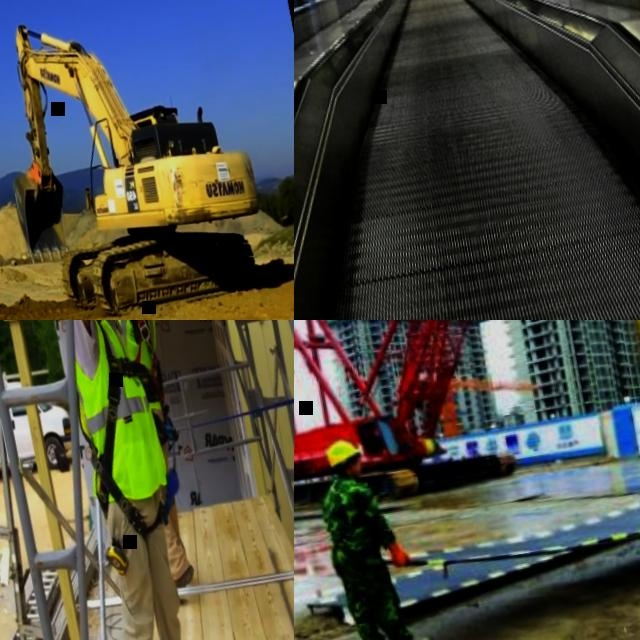Hardhat: (323, 435, 360, 467)
NO-Mask: (346, 460, 365, 475)
NO-Safety Vest: (319, 475, 383, 558)
Person: (30, 320, 205, 640), (85, 320, 208, 594), (310, 426, 427, 640)
Safety Vest: (60, 320, 170, 505), (112, 320, 169, 411)
machinery: (0, 0, 274, 320)
vehicle: (0, 361, 77, 494)
